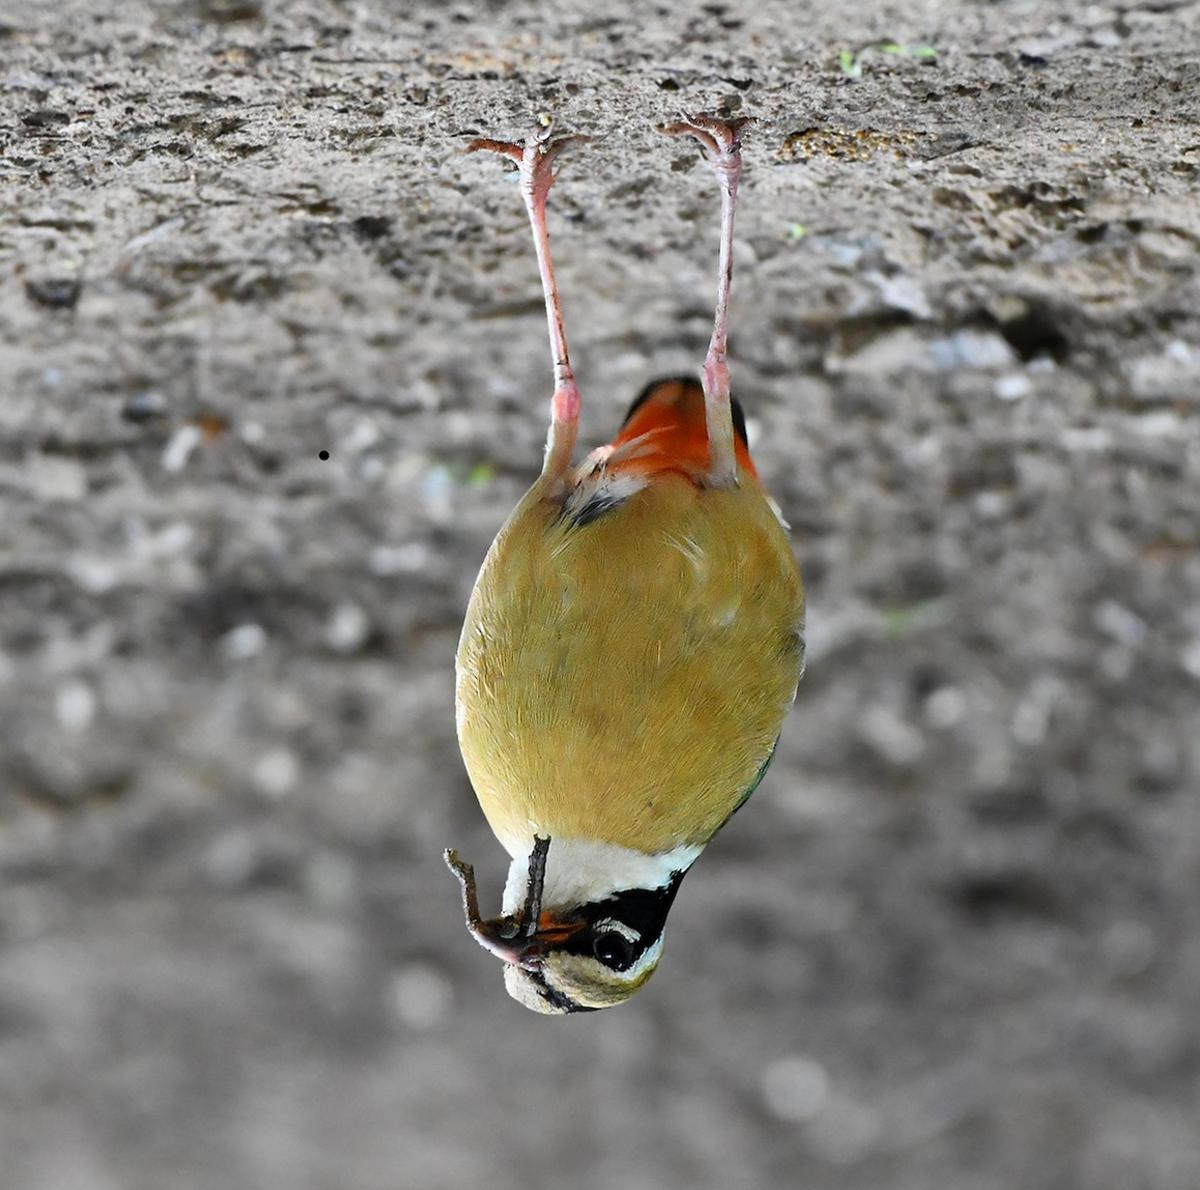pitta: (421, 135, 871, 1045)
